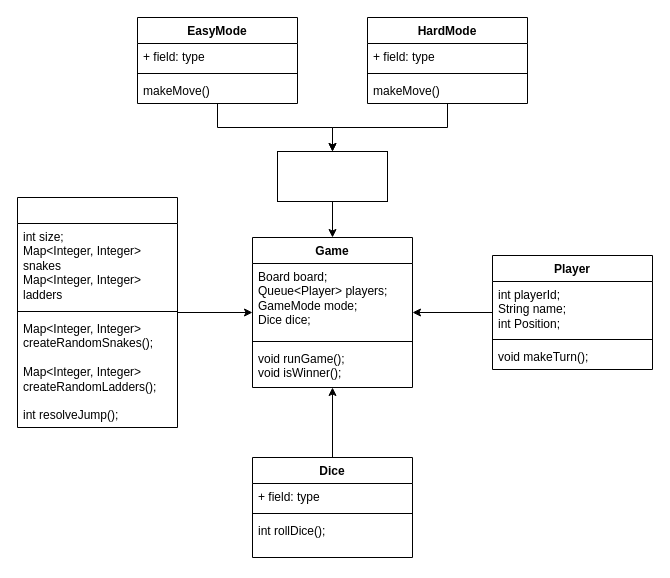
Some shapes in this 670 by 578 pixel diagram are drawn without their labels. The box of each missing label's shape, as (x1, y1, x2, y2) in pixels:
Board: (16, 196, 178, 428)
«interface» GameMode makeMove(): (276, 150, 388, 202)
